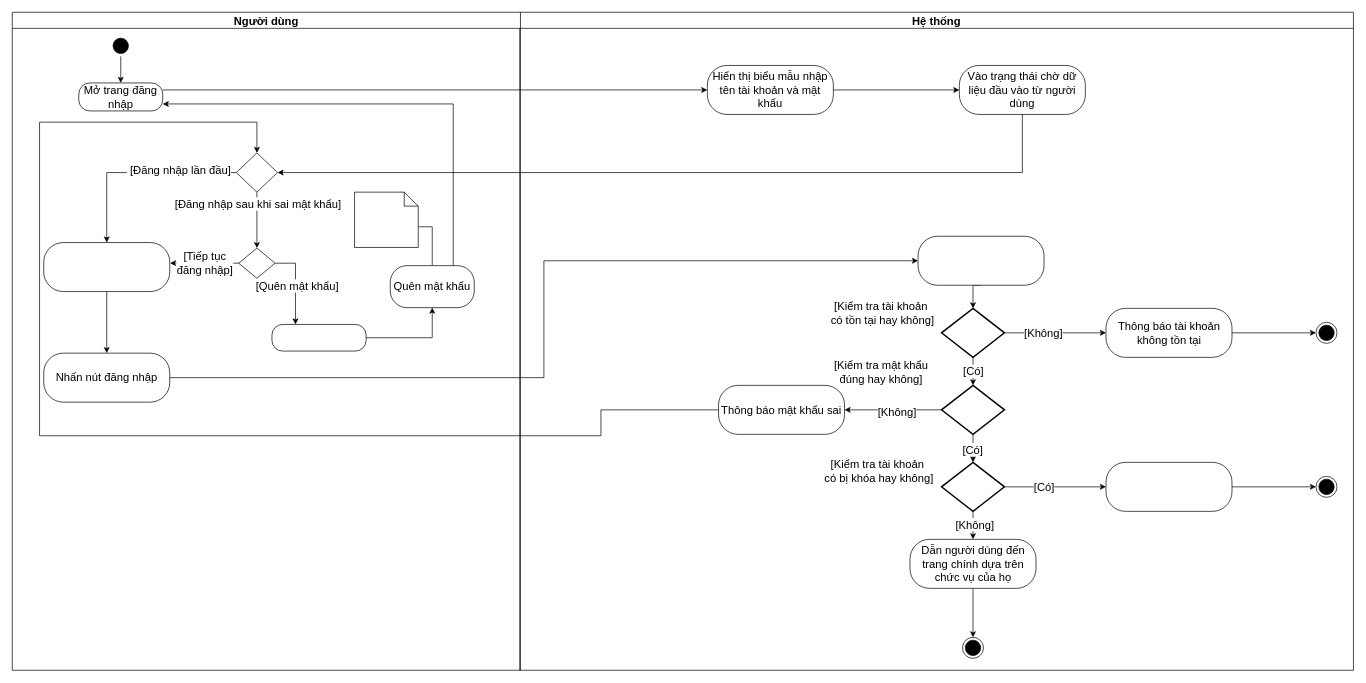
This 1366x683 diagram has some shape labels left out. Each missing label, with the centre of its shape:
Activity Diagram: Quên mật khẩu: pixel 386 219
Chọn nút Quên mật khẩu: pixel 318 337
Kiểm tra tên tài khoản và mật khẩu: pixel 980 260
Nhập tên tài khoản và mật khẩu: pixel 106 267
Thông báo tài khoản hiện đang bị khóa: pixel 1168 486
